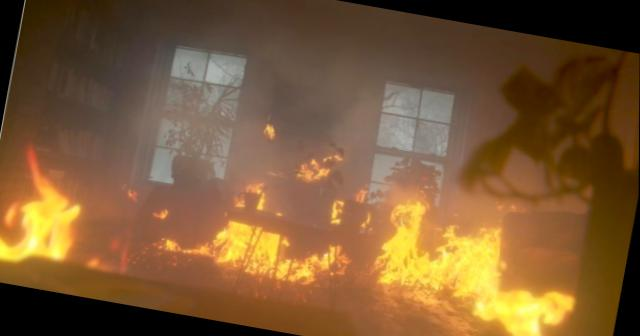fire: (0, 97, 608, 333)
